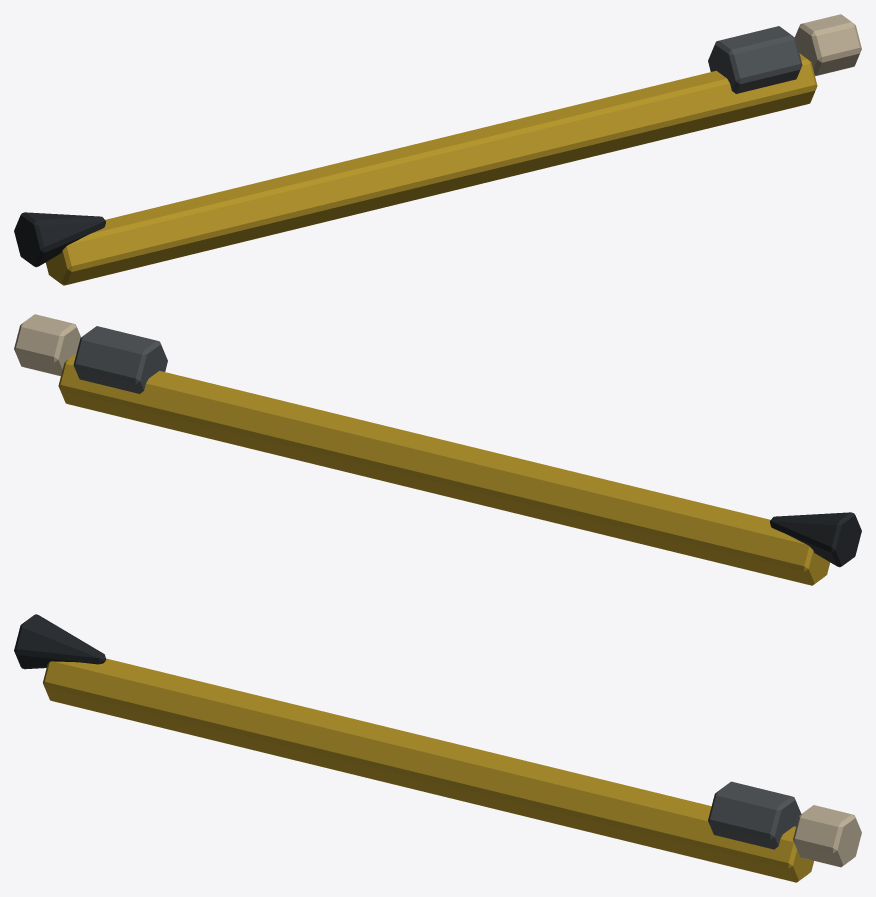
Rendered from personal_pencil.glb.
The picture shows the model from 3 angles, top to bottom: view 1: azimuth 30°, elevation 25°; view 2: azimuth 150°, elevation 25°; view 3: azimuth 330°, elevation 25°; orthographic projection.
Parts seen in each view (by area): view 1: personal_pencil; view 2: personal_pencil; view 3: personal_pencil.
Part boxes in pixels (left/top/right/bottom): personal_pencil: left=14, top=14, right=861, bottom=285; personal_pencil: left=14, top=314, right=861, bottom=585; personal_pencil: left=14, top=614, right=861, bottom=882.
Size of the model in its own units: 0.148 by 0.0127 by 0.00943.
